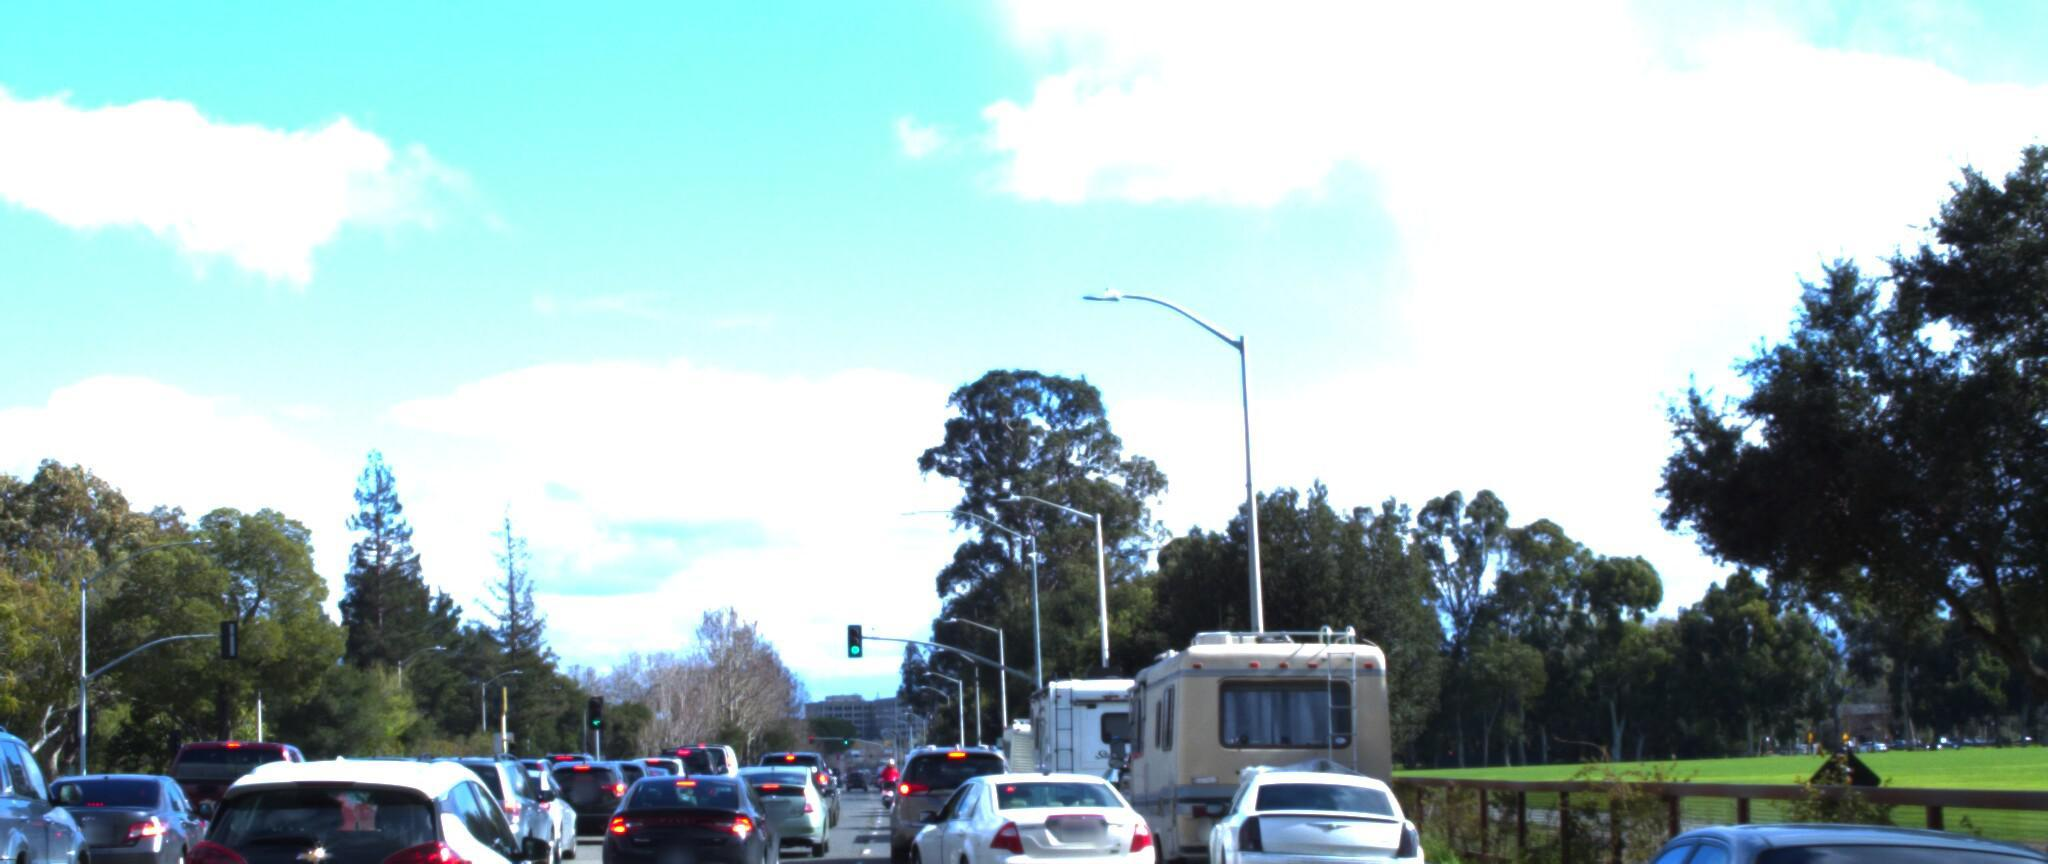bus: (1113, 572, 1418, 864)
car: (1937, 0, 2048, 864), (163, 707, 568, 864), (887, 711, 1166, 864), (1516, 792, 2048, 864), (121, 703, 351, 857), (1207, 737, 1442, 864), (379, 714, 568, 857), (10, 747, 234, 864), (593, 735, 778, 864), (0, 700, 125, 864), (899, 715, 1024, 844), (731, 732, 842, 829), (538, 727, 647, 820)
other_vehicle: (1025, 641, 1208, 813), (998, 677, 1106, 784)
